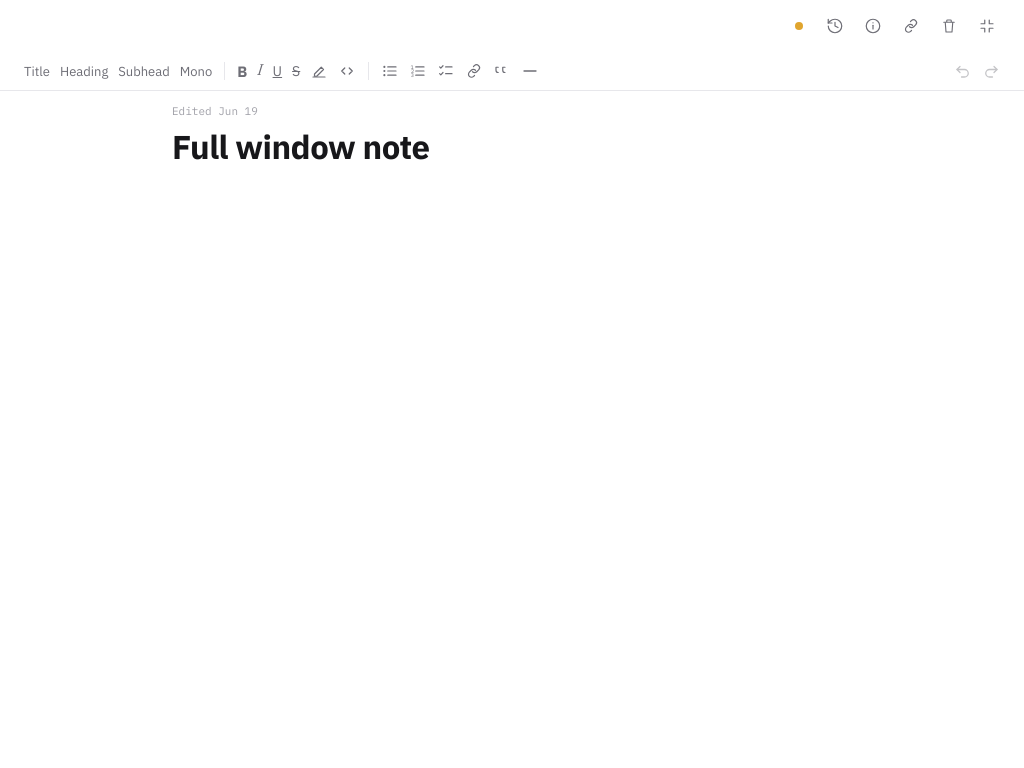
FW-1 — /note/:id/full is a bare full-window view (no 3-region shell); exit returns to it › mounts the editor without nav/list panes, and Exit full screen navigates back to /note/:id
This screenshot has width=1024, height=768.
Note: Exit → /note/:id → the 3-region shell reappears (master-detail: nav + list mount).
Click the link named "Exit full screen" at (987, 26), box 978,17 -> 996,35
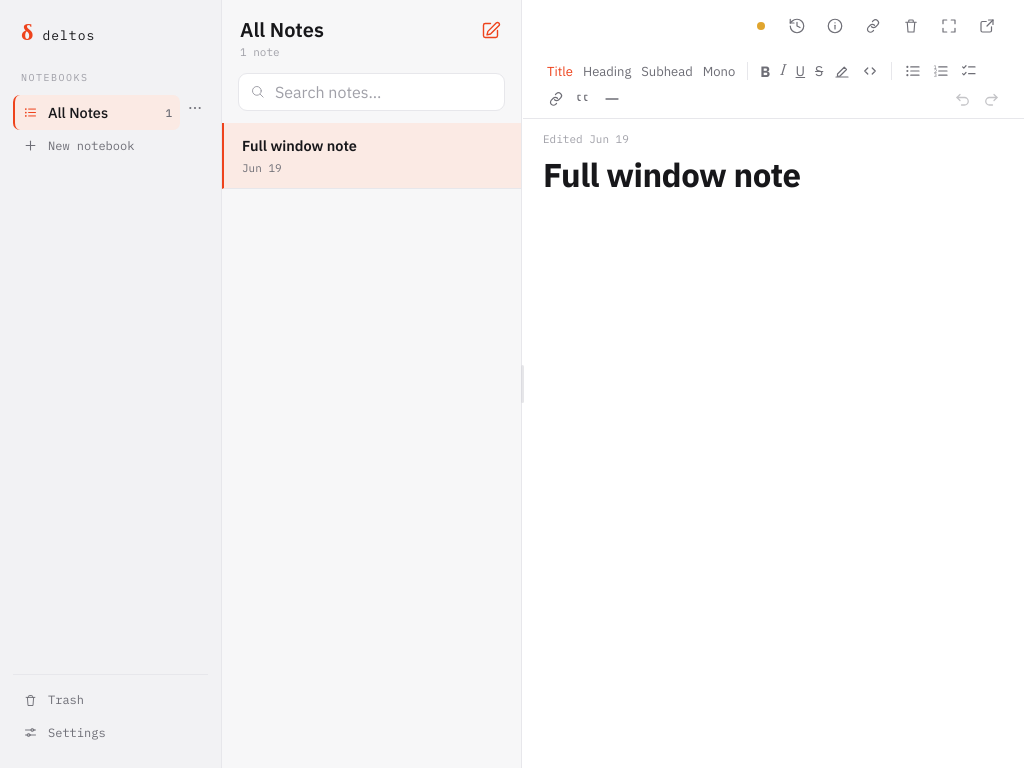
Expected: the element with class "shell-3region__nav" is shown, 0,0 -> 222,767
Expected: the element with class "shell-3region__list" is shown, 222,0 -> 522,767
